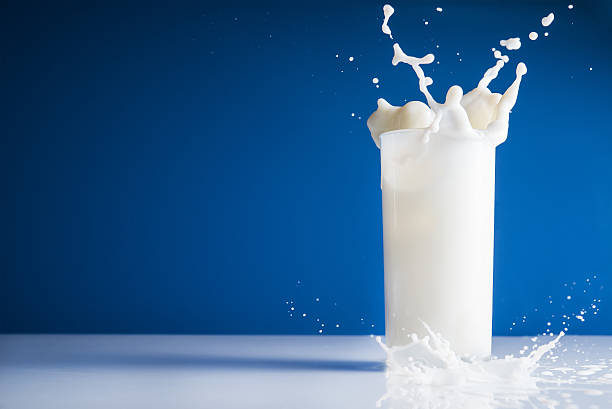glass of milk: (358, 36, 535, 409)
